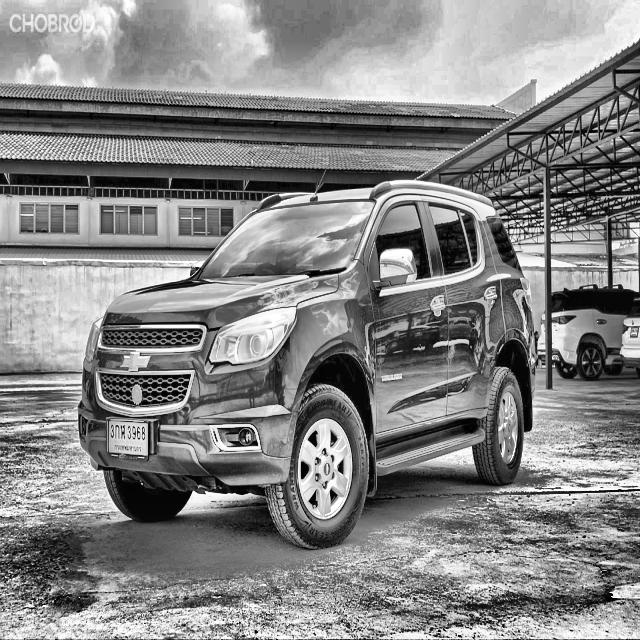license-plate: (105, 413, 150, 465)
